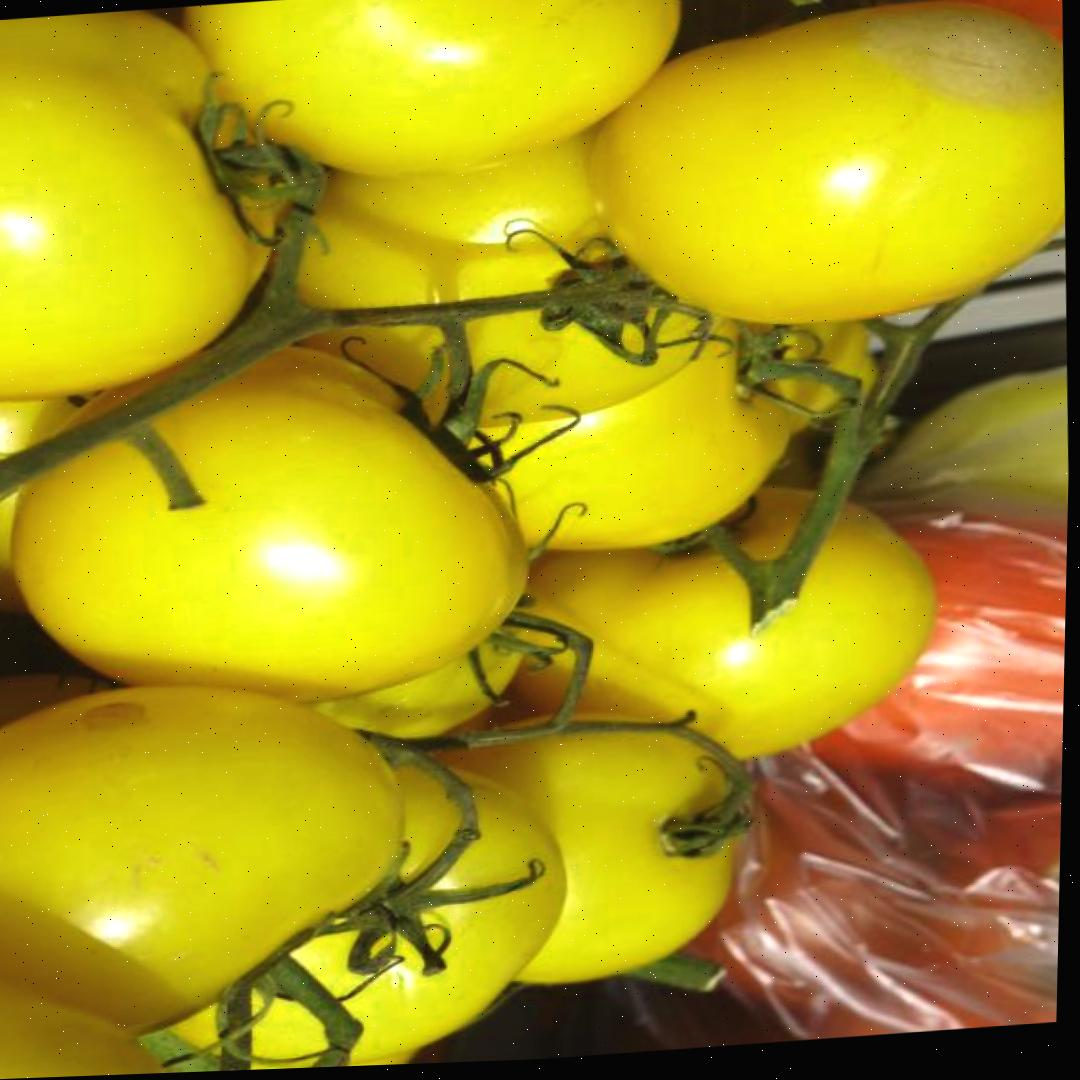setengah_matang: (0, 320, 545, 724), (579, 0, 1073, 341), (0, 663, 420, 1051), (473, 469, 946, 781)
